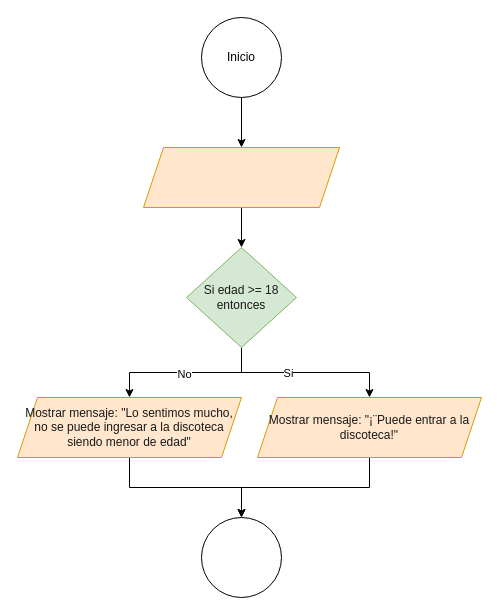
This 499x615 diagram has some shape labels left out. The centre of each missing label's shape, as x and y in pixels:
Fin: pixel 241 557
Mostrar mensaje: "Por favor, ingrese la edad del cliente: ": pixel 241 177
